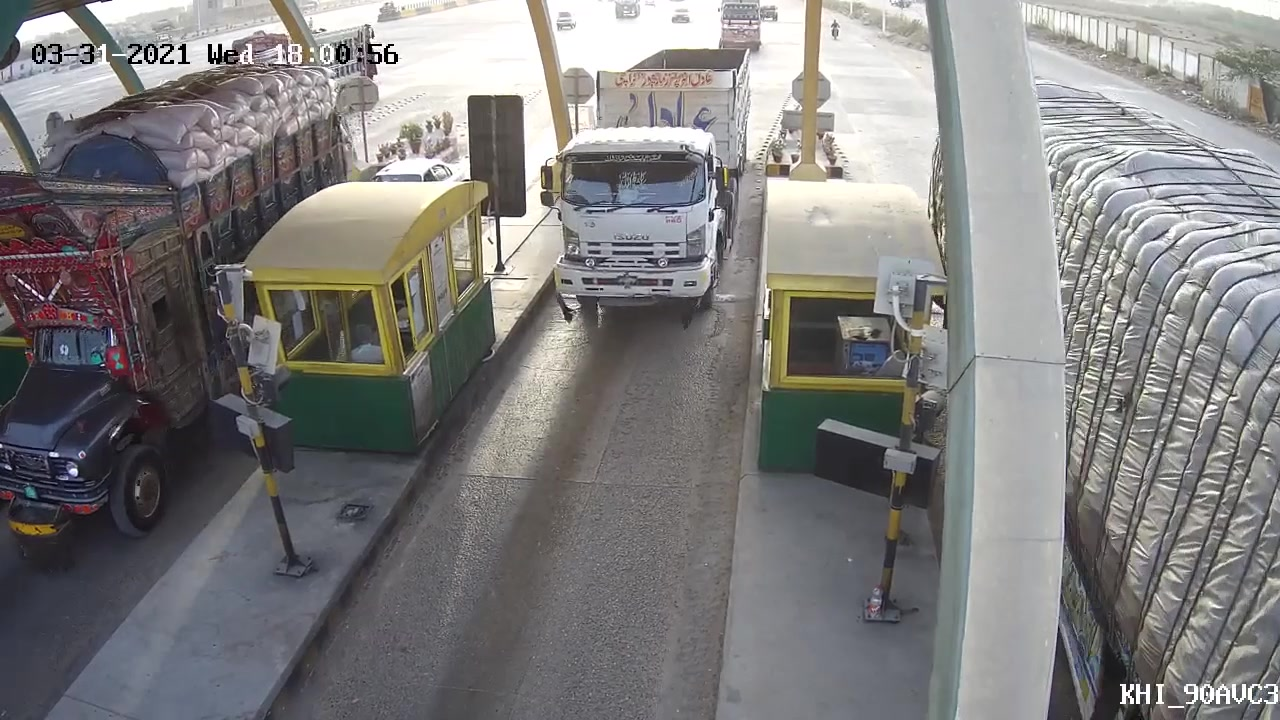F5: (532, 46, 764, 337)
